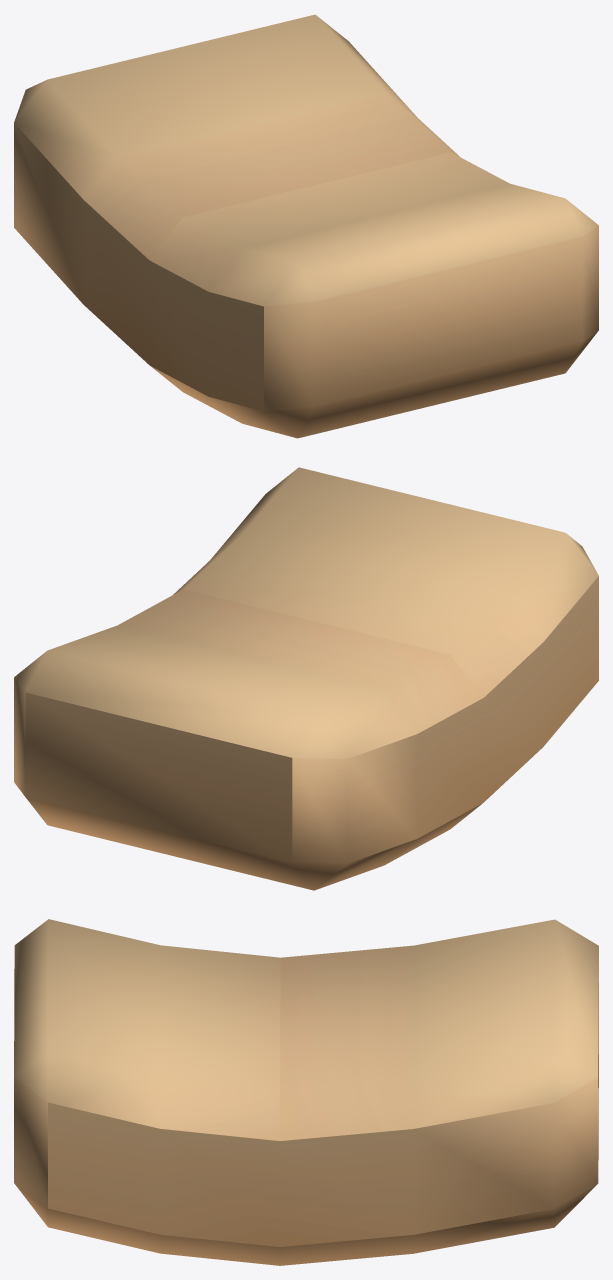
Rendered from sack.glb.
3 views of the same model, one above another, from view 1: azimuth 30°, elevation 25°; view 2: azimuth 150°, elevation 25°; view 3: azimuth 270°, elevation 25° (orthographic).
Visible parts, largest first — view 1: sack; view 2: sack; view 3: sack.
Boxes of the visible parts, box(x1,y1,x2,y2) form: sack: box(14, 14, 598, 438); sack: box(14, 467, 598, 890); sack: box(14, 919, 598, 1265).
Size of the model in its own units: 0.1065 by 0.0647 by 0.1595.
1 material, 1 textured.
